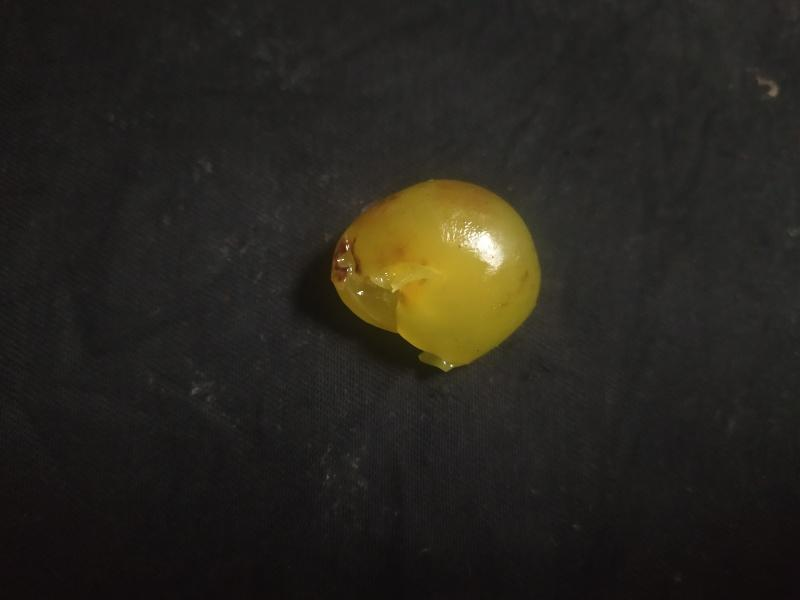Grape Overripe: (326, 174, 544, 374)
